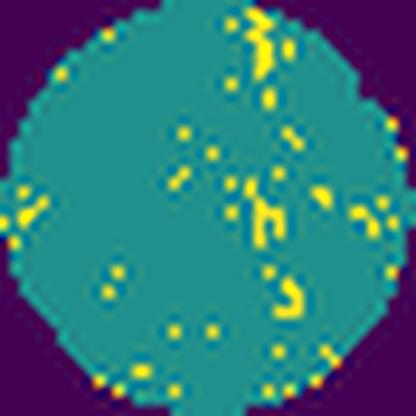Loc: (243, 178, 287, 247), (243, 5, 276, 78), (264, 278, 310, 326)
